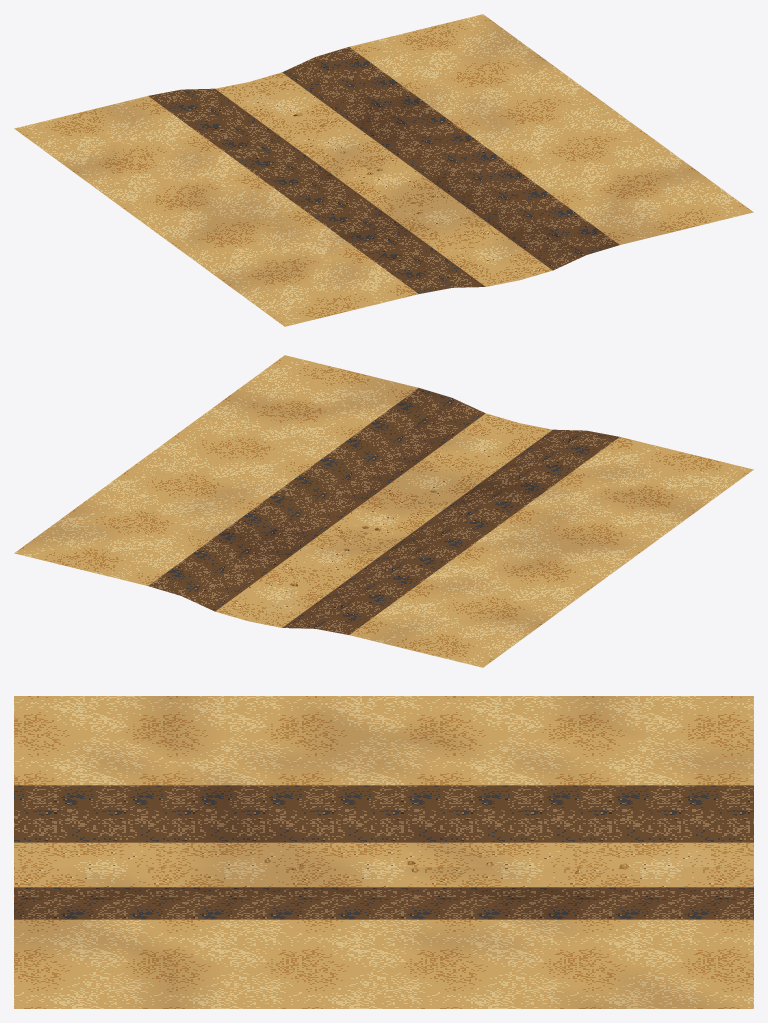
File: wland.riverbed__canyon.glb
3 views of the same model, one above another, from view 1: azimuth 30°, elevation 25°; view 2: azimuth 150°, elevation 25°; view 3: azimuth 270°, elevation 25° (orthographic). The views are drawn at different scales.
Parts seen in each view (by area): view 1: kit_shell_ground; view 2: kit_shell_ground; view 3: kit_shell_ground.
Boxes of the visible parts, left/top/right/bottom form: kit_shell_ground: left=14, top=14, right=753, bottom=326; kit_shell_ground: left=14, top=355, right=753, bottom=667; kit_shell_ground: left=14, top=696, right=753, bottom=1008.
Size of the model in its own units: 32 by 0.7 by 32.
4 materials, 4 textured.
